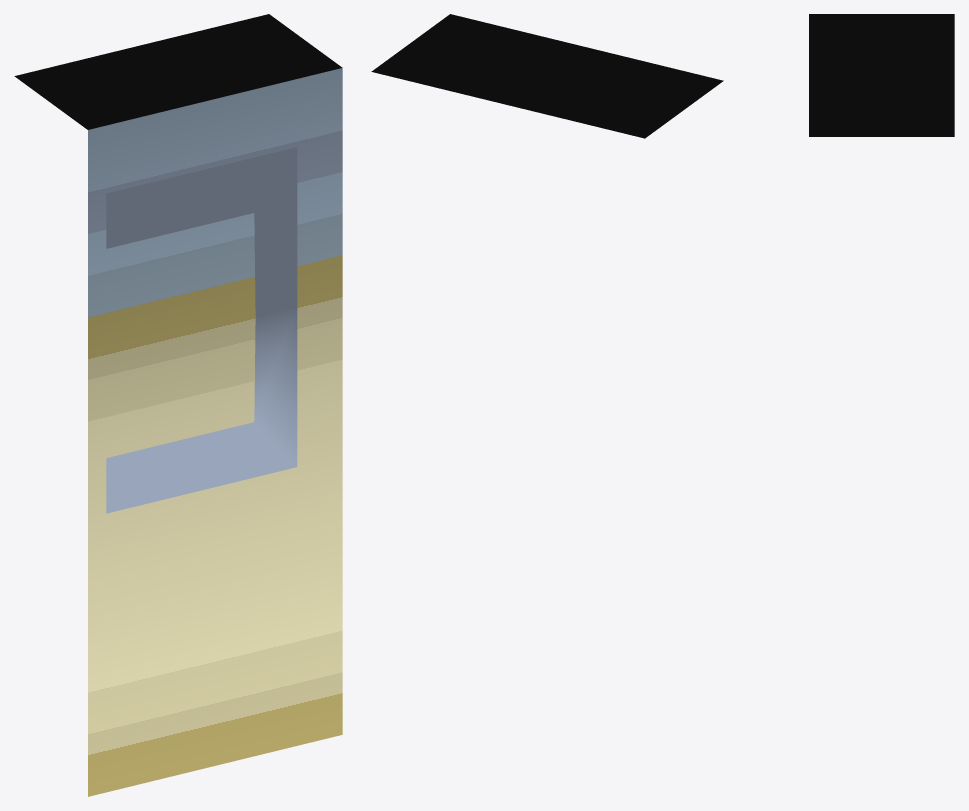
3 renders of one model, left to right at view 1: azimuth 30°, elevation 25°; view 2: azimuth 150°, elevation 25°; view 3: azimuth 270°, elevation 25°, orthographic. The views are drawn at different scales.
Bounding box in the file's own units: 1 × 2.5 × 0.625.
Materials: 1 (1 with a texture image).
